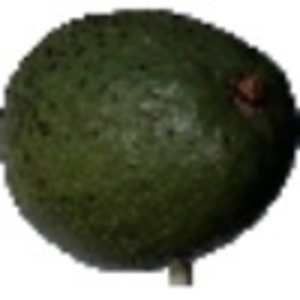abacate: (3, 6, 297, 273)
